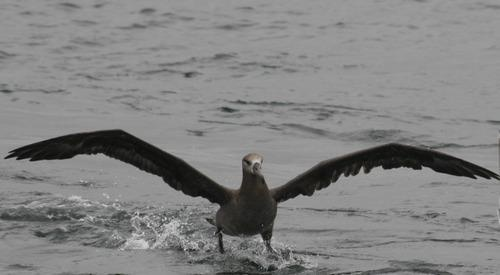bird: (1, 128, 500, 273)
